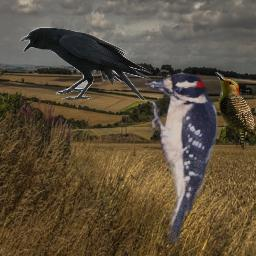Crow: (19, 27, 153, 101)
Woodpecker: (144, 69, 221, 243), (215, 72, 255, 150)
